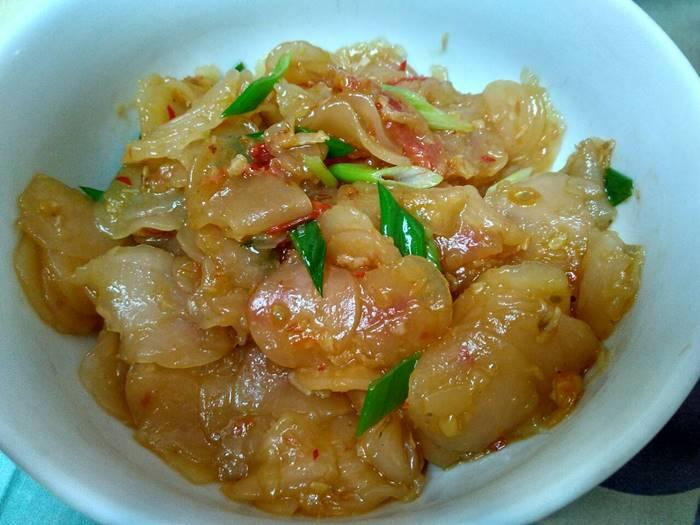seblak: (11, 40, 639, 518)
